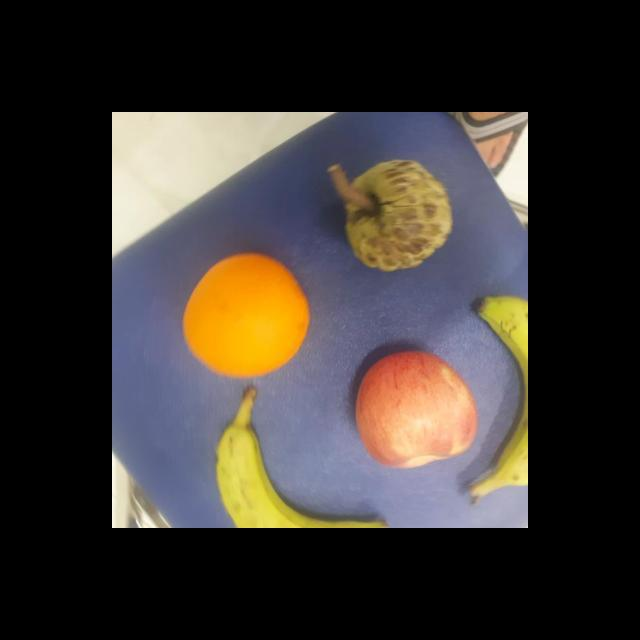Sakya fruit: (344, 160, 454, 273)
apple: (350, 344, 480, 468)
banana: (215, 424, 392, 528), (472, 291, 528, 489)
orange: (181, 254, 309, 380)
